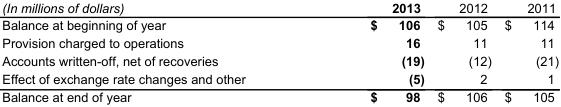table: (1, 0, 558, 104)
table column: (1, 0, 307, 104), (307, 0, 430, 104), (430, 0, 497, 104), (497, 0, 558, 104)
table column header: (1, 0, 558, 16)
table row: (1, 33, 558, 51), (1, 51, 558, 69), (1, 69, 558, 87), (1, 16, 558, 33), (1, 87, 558, 104), (1, 0, 558, 16)
